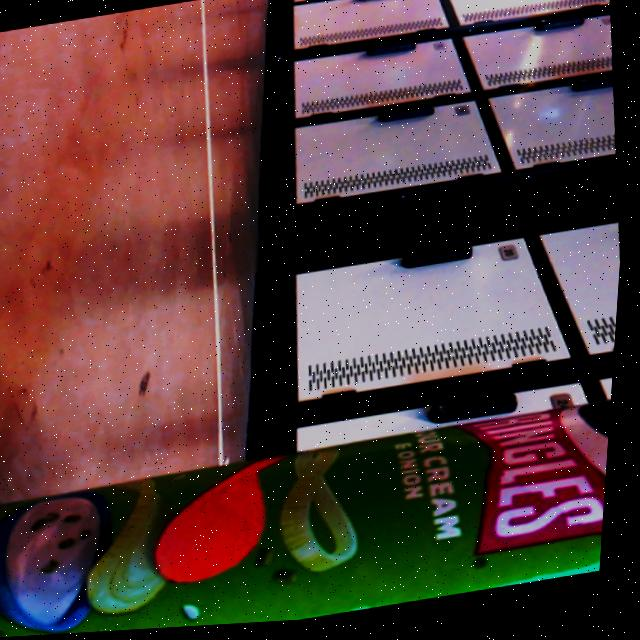greenpringles: (0, 380, 619, 639)
